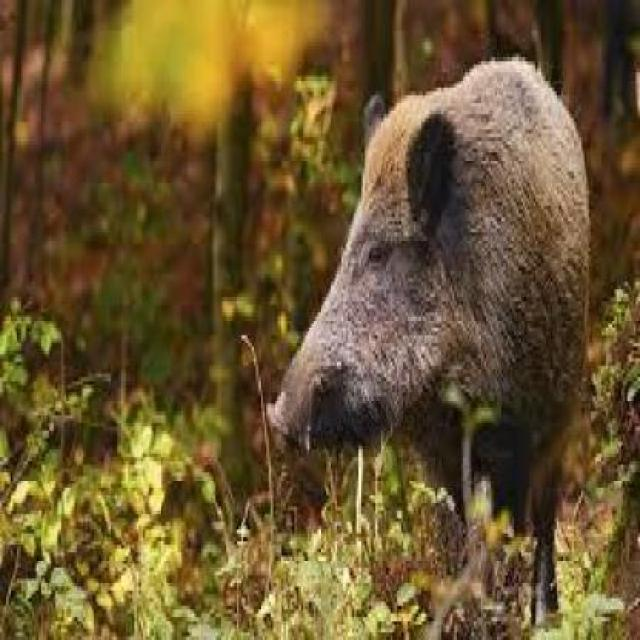wildboar: (260, 53, 594, 635)
